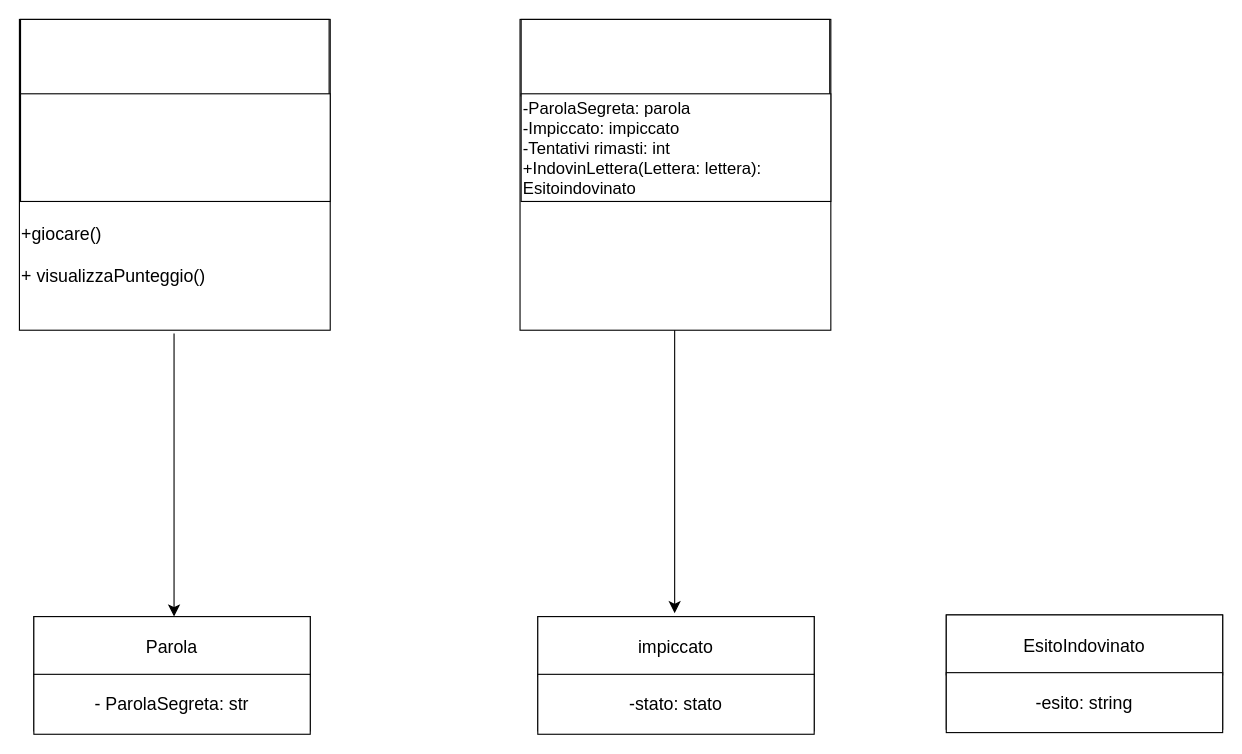
Image size: 1242x754. Some labels were removed from this diagram. The shapes that lost their labels are listed below. From the top down, each one's centre as x and y in pixels, then its label:
At [174,57]: "Giocatore".
At [675,57]: "Gioco dell'impiccato".
At [174,147]: "-nome:string -puteggio: int".
